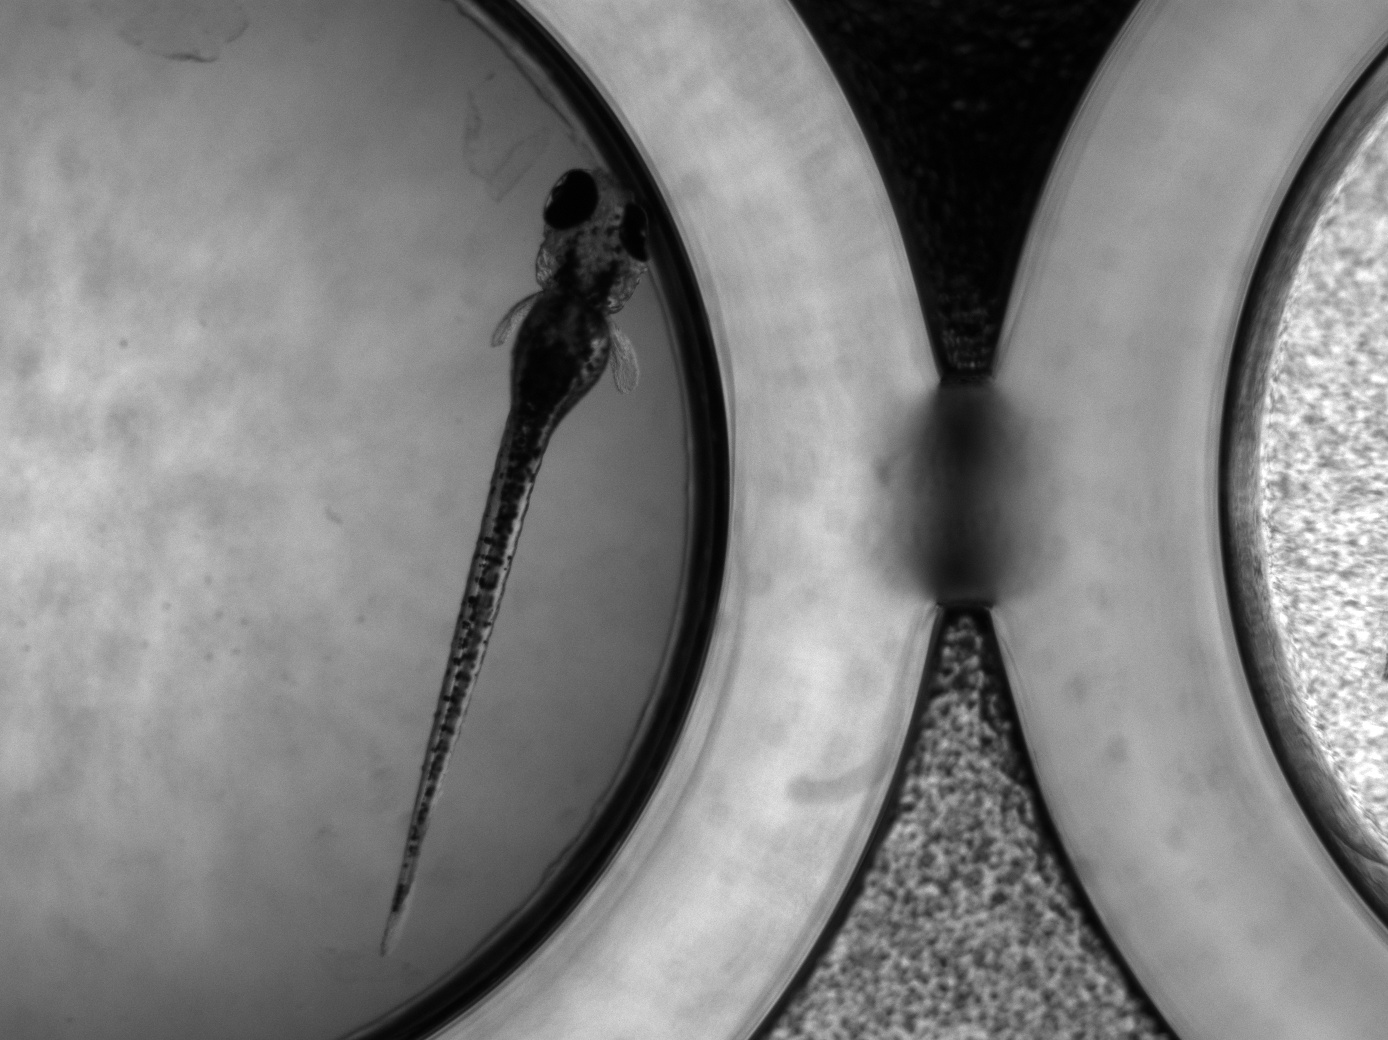embryo: (375, 167, 649, 962)
eye: (543, 168, 598, 231), (620, 202, 649, 262)
yolksac: (510, 298, 610, 410)
